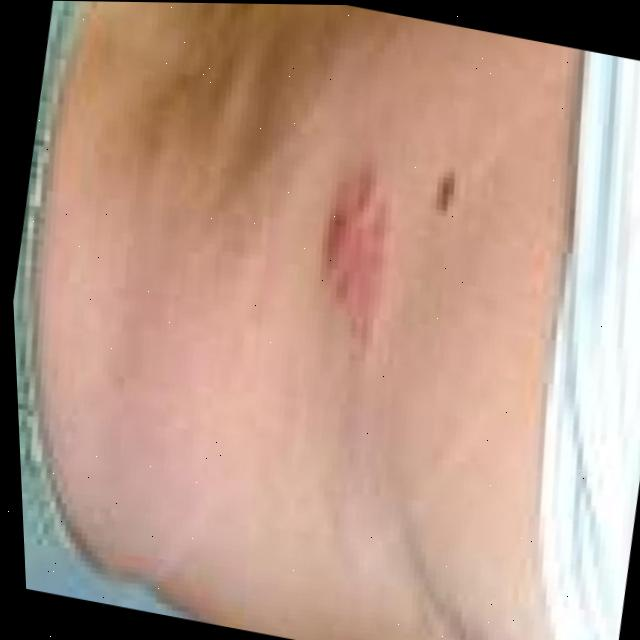Shingles: (303, 158, 412, 358)
